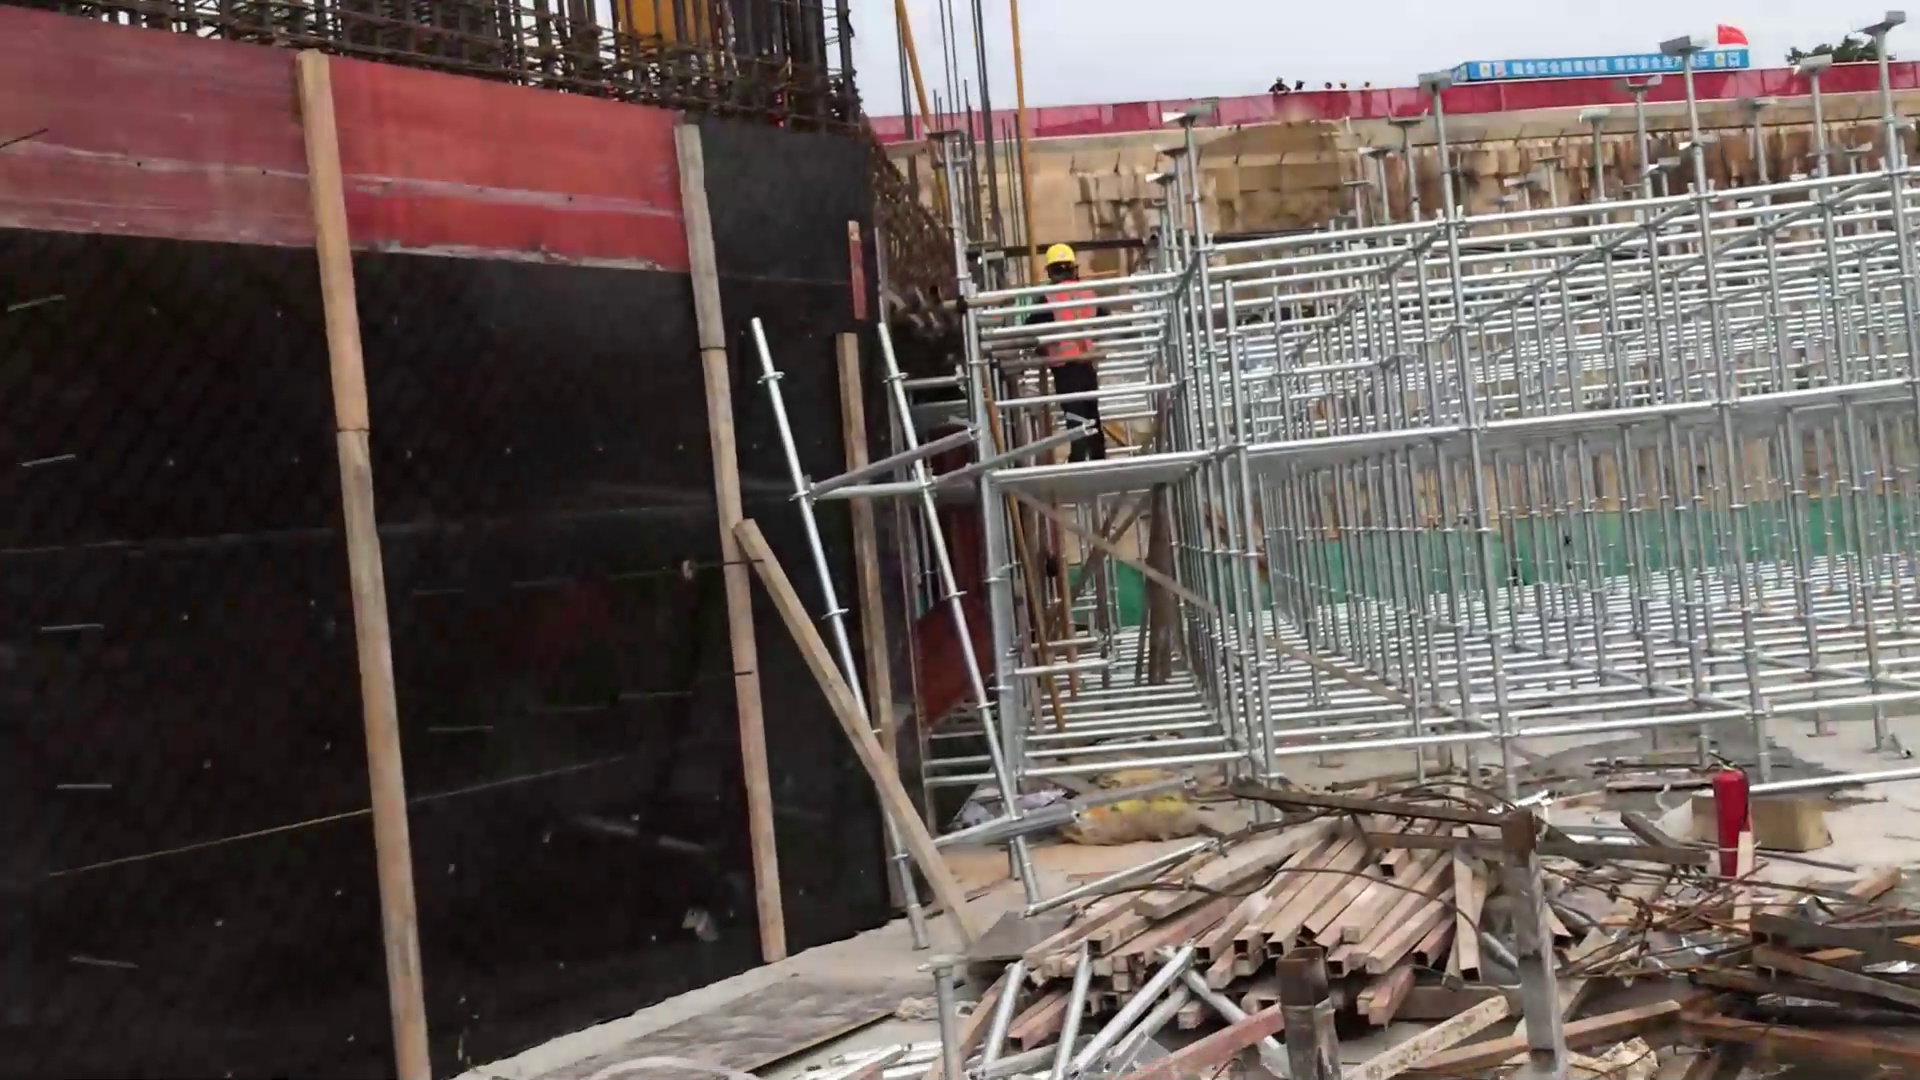fence: (872, 52, 1912, 155)
helmet: (1041, 246, 1086, 272)
person: (1017, 236, 1117, 469)
vest: (1036, 286, 1107, 377)
